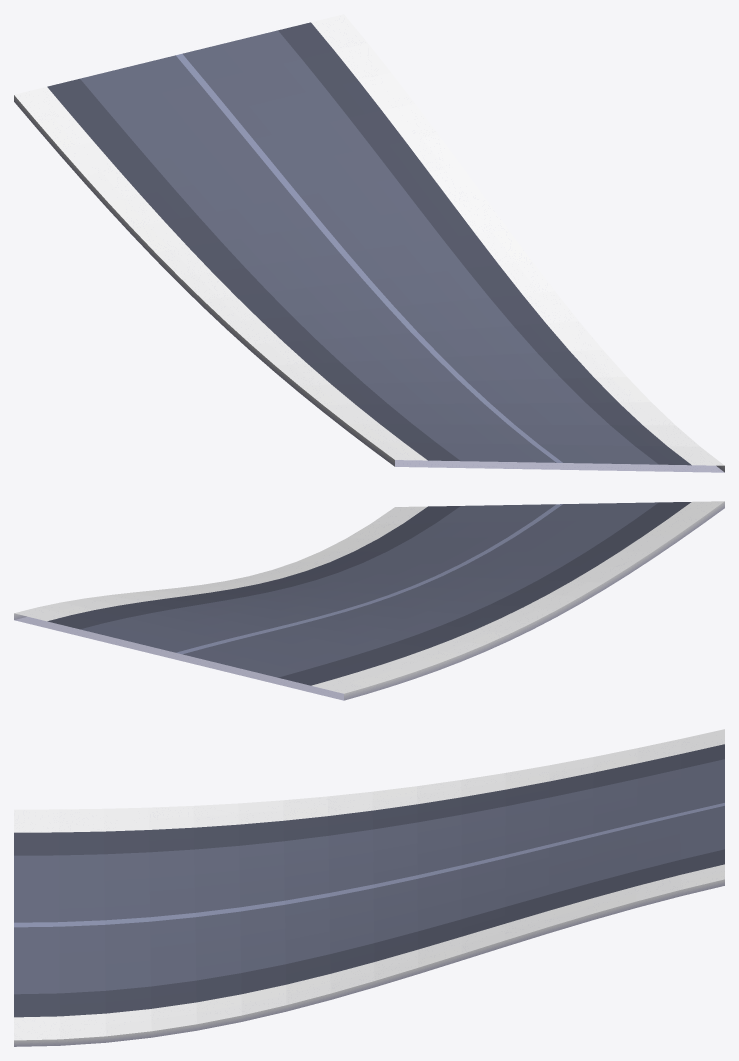
Rendered from road-Straight-HalfBankedRight-BiSlopeUp-Up2-Center-Size2.glb.
The picture shows the model from 3 angles, top to bottom: view 1: azimuth 30°, elevation 25°; view 2: azimuth 150°, elevation 25°; view 3: azimuth 270°, elevation 25°; orthographic projection. The views are drawn at different scales.
Parts seen in each view (by area): view 1: road-Straight-HalfBankedRight-BiSlopeUp-Up2-Center-Size2; view 2: road-Straight-HalfBankedRight-BiSlopeUp-Up2-Center-Size2; view 3: road-Straight-HalfBankedRight-BiSlopeUp-Up2-Center-Size2.
Boxes of the visible parts, x1,y1,x2,y2 form: road-Straight-HalfBankedRight-BiSlopeUp-Up2-Center-Size2: [14, 14, 724, 472]; road-Straight-HalfBankedRight-BiSlopeUp-Up2-Center-Size2: [14, 501, 724, 700]; road-Straight-HalfBankedRight-BiSlopeUp-Up2-Center-Size2: [14, 729, 724, 1046].
Size of the model in its own units: 1 by 0.52 by 2.
Materials: 1 (1 with a texture image).
